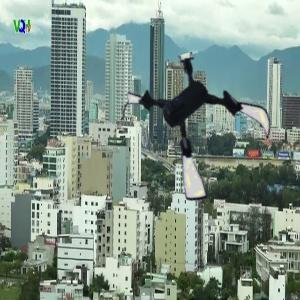drone: (126, 54, 273, 201)
